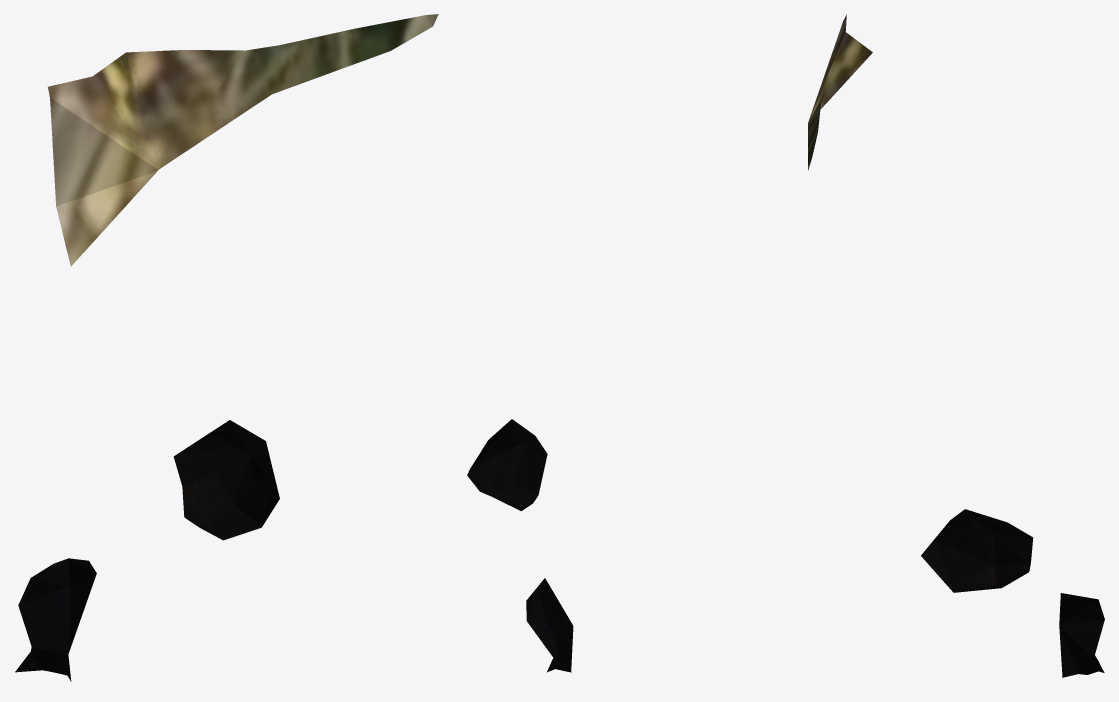
3 renders of one model, left to right at view 1: azimuth 30°, elevation 25°; view 2: azimuth 150°, elevation 25°; view 3: azimuth 270°, elevation 25°, orthographic. The views are drawn at different scales.
Size of the model in its own units: 0.443 by 0.8374 by 0.3696.
Materials: 1 (1 with a texture image).
